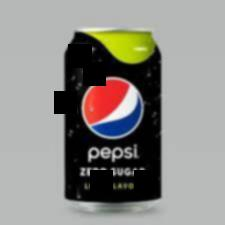pepsi_zero: (60, 28, 168, 213)
